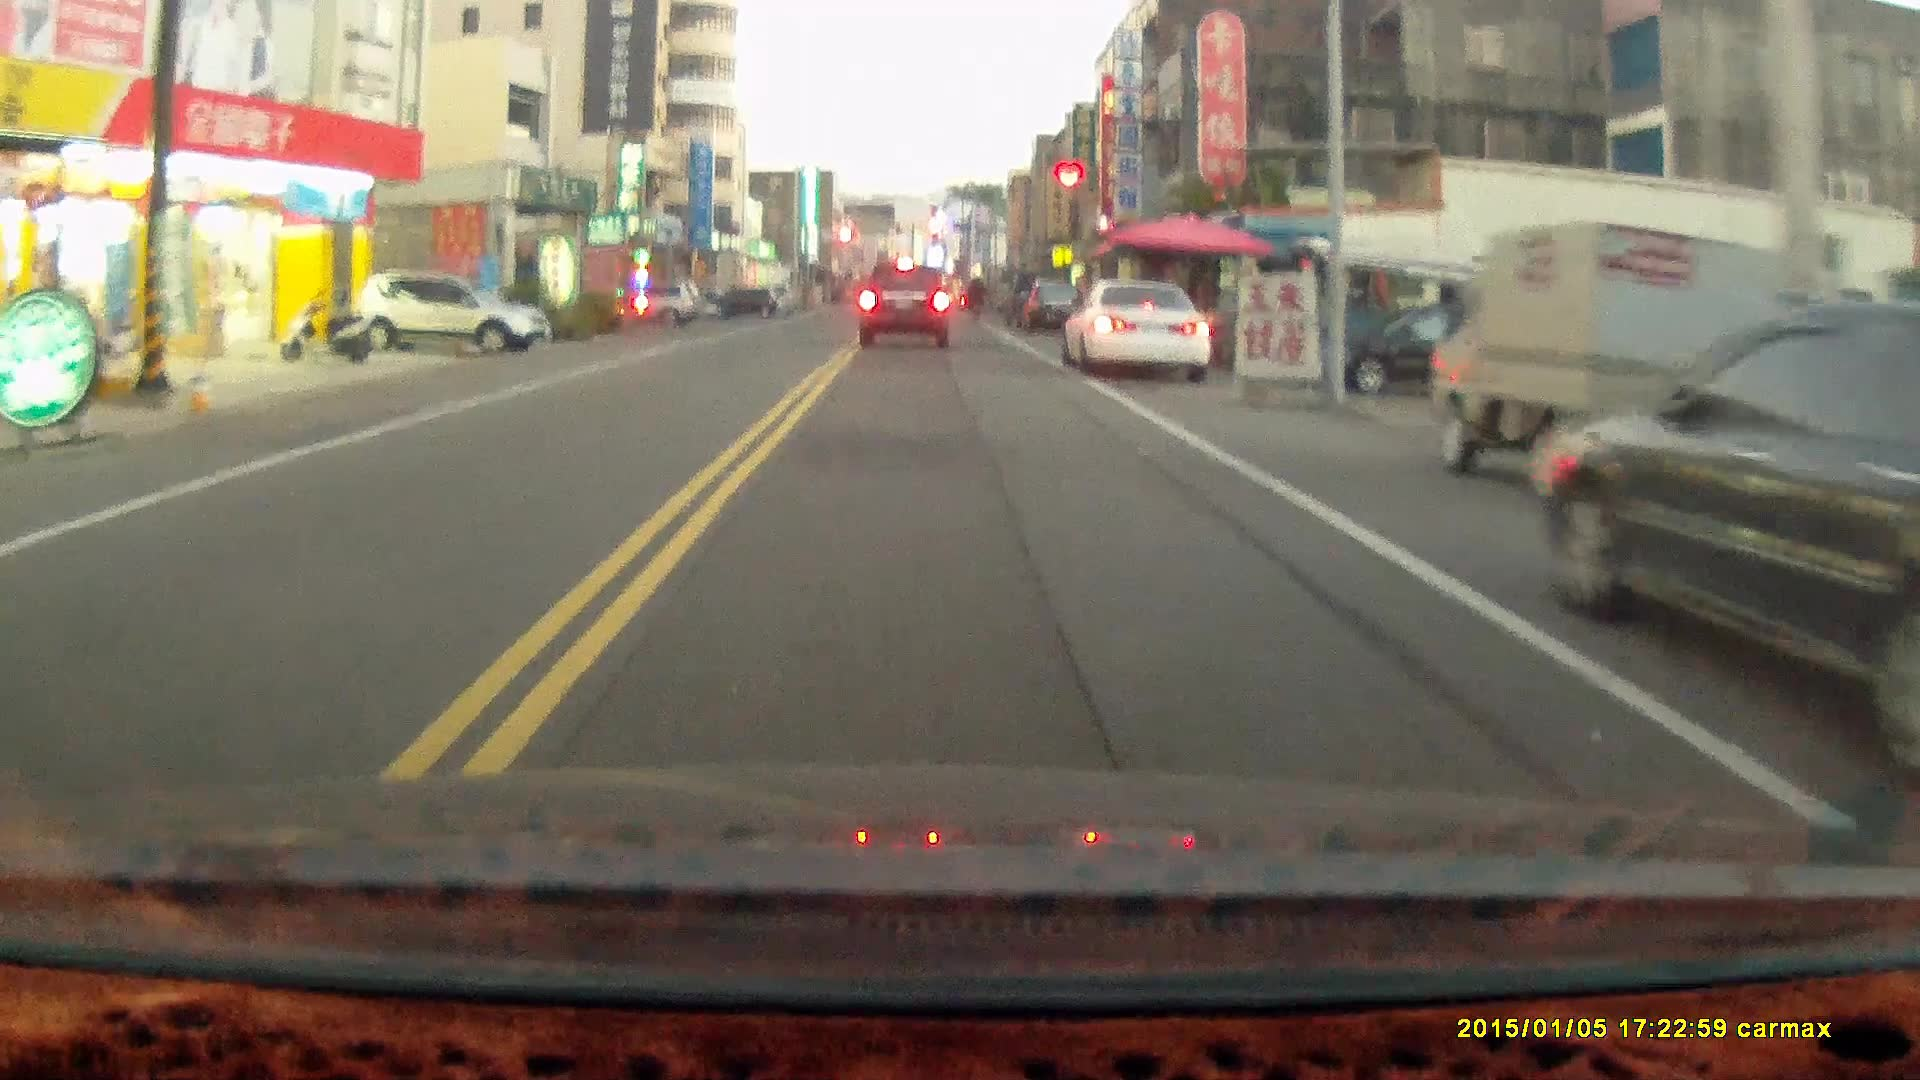vehicle: (1530, 298, 1920, 728), (1435, 223, 1804, 506), (1305, 299, 1578, 402), (344, 272, 546, 356), (1065, 280, 1215, 386), (855, 262, 953, 347)
